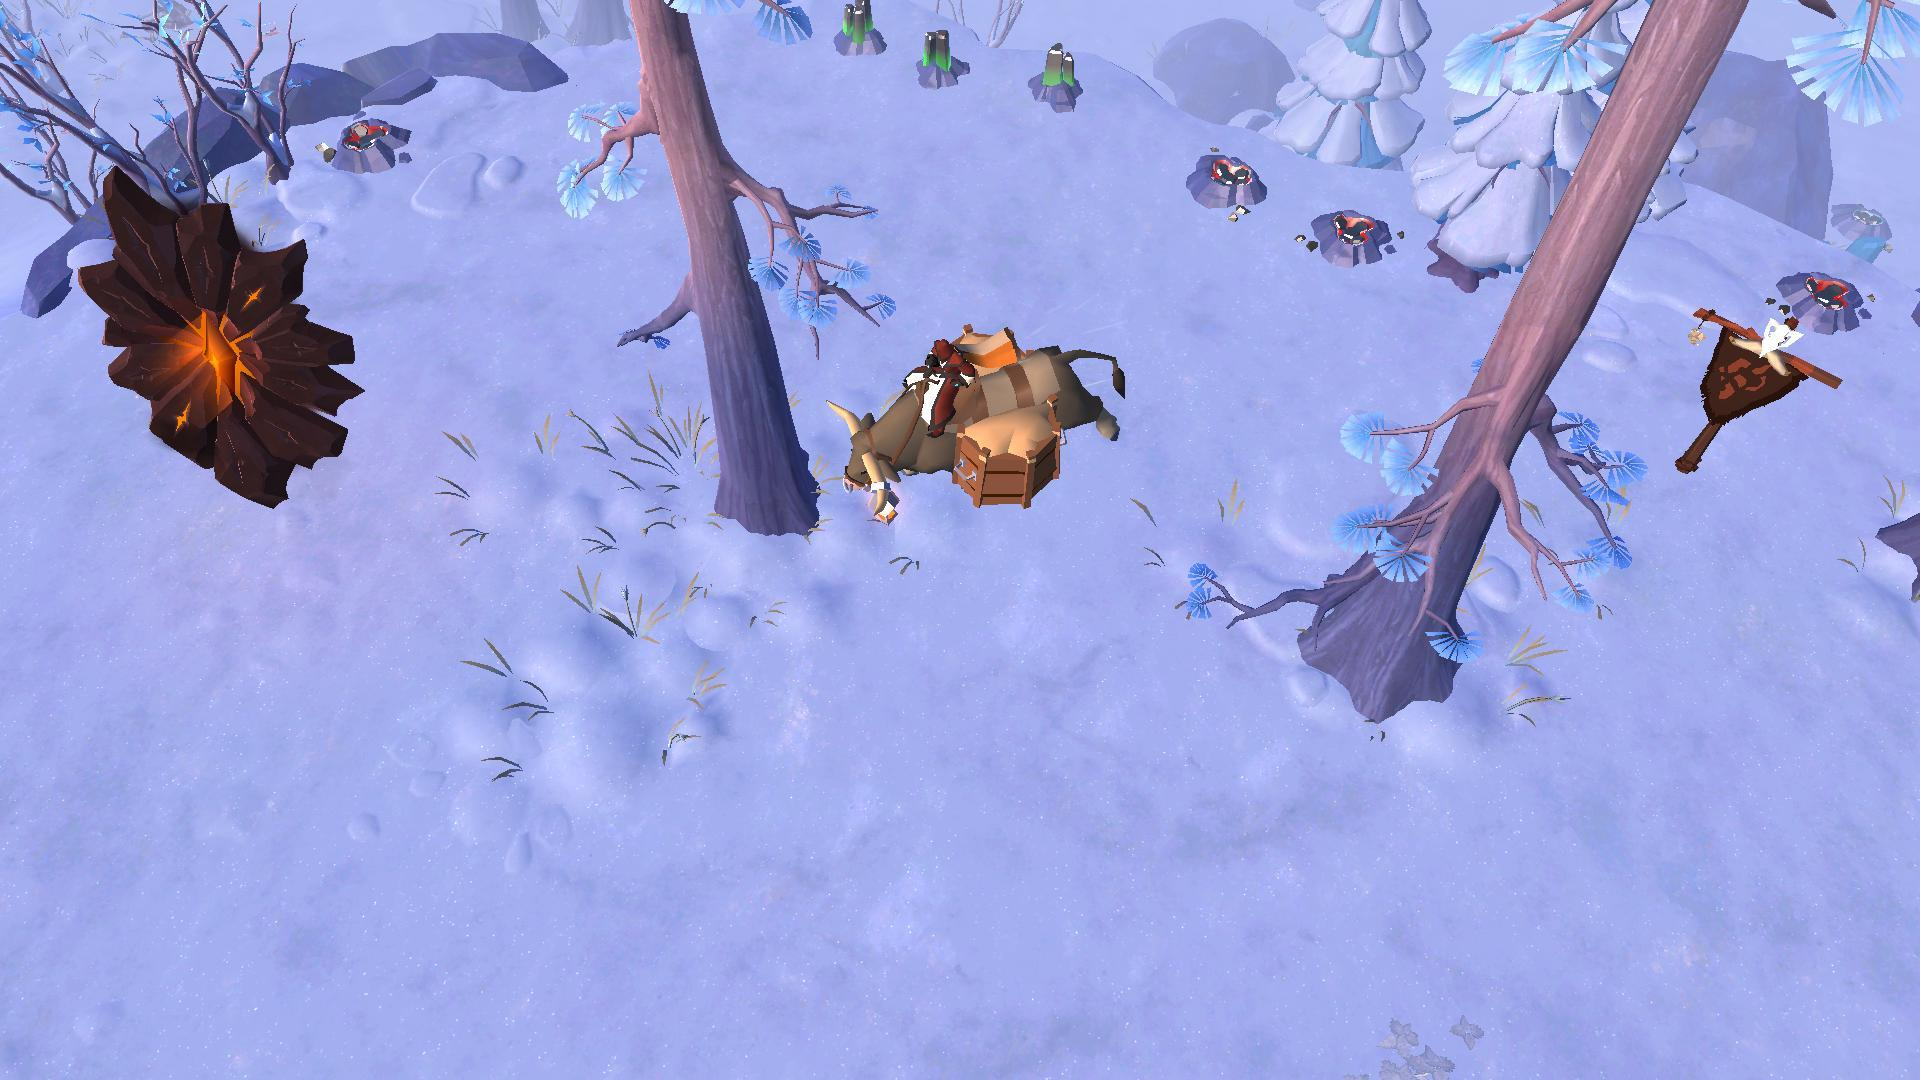ore_t3: (833, 0, 889, 49), (915, 20, 963, 75), (1044, 37, 1080, 99)
